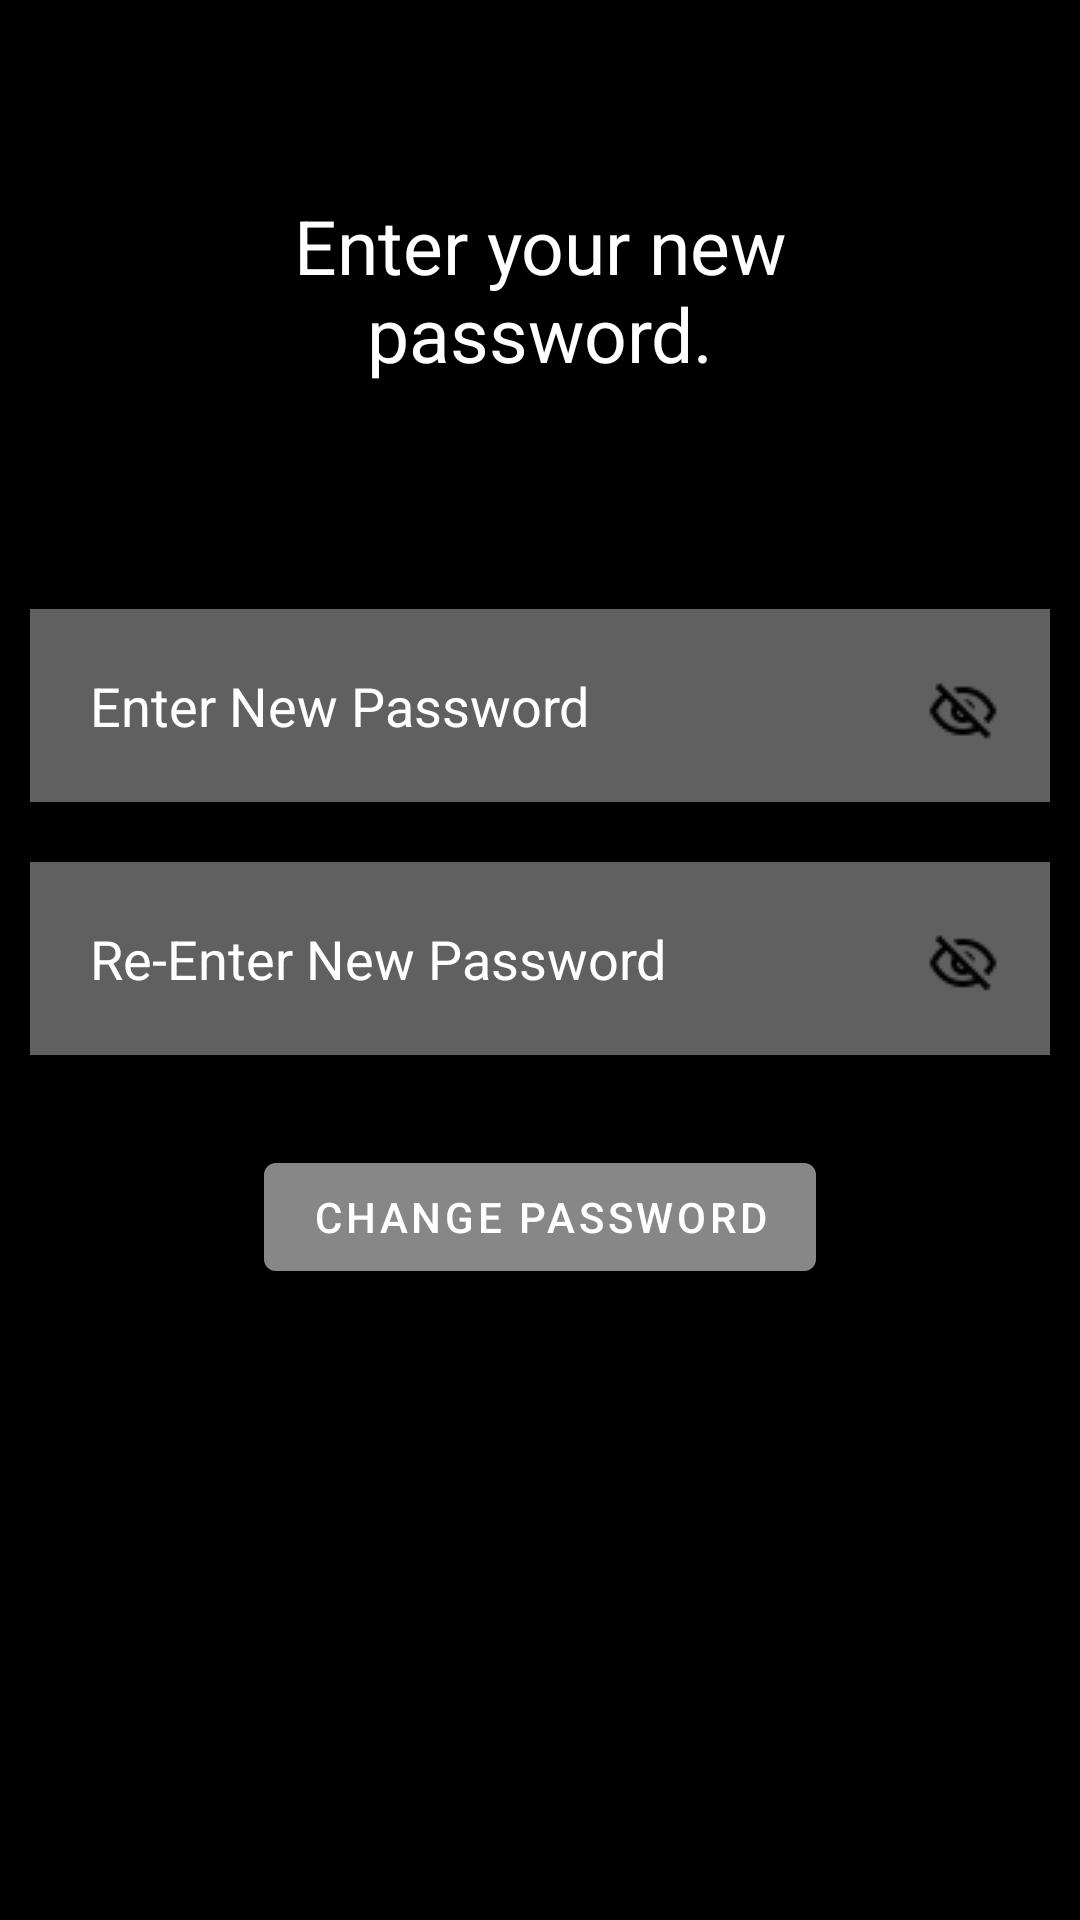

Point at icon controls on the screen. Image size 1080w x 1920h, points as [x,y].
hide ped: [963,711], [963,963]
